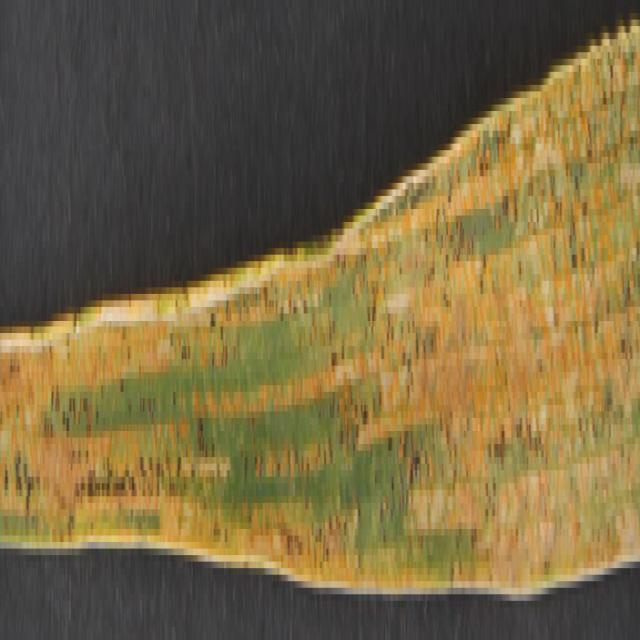leaf rust: (1, 39, 638, 627)
